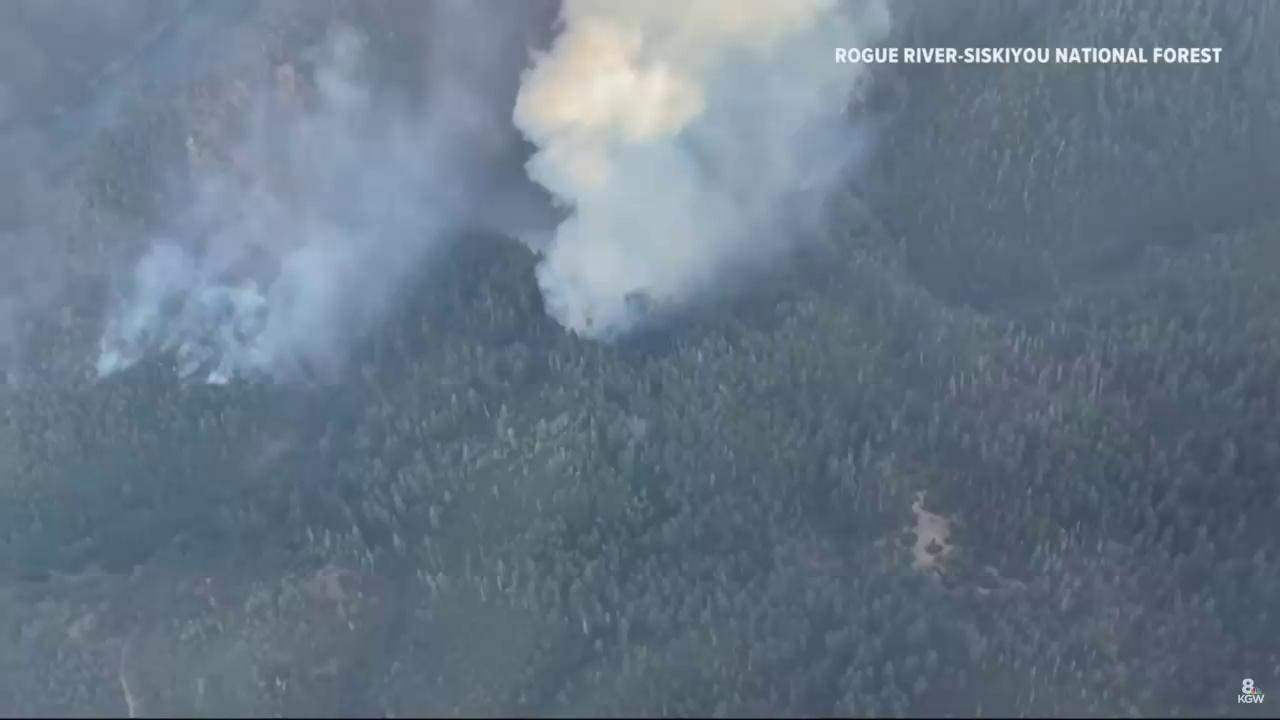smoke: (0, 0, 901, 389)
